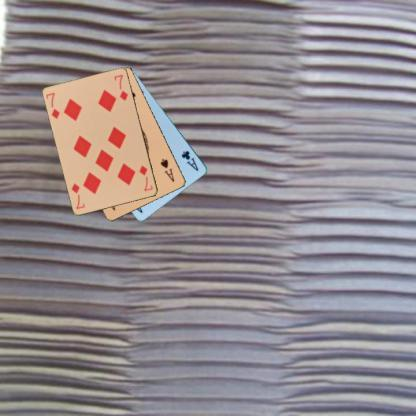7d: (43, 90, 62, 120), (136, 162, 154, 192)
Ac: (179, 148, 200, 172)
As: (158, 156, 176, 183)
